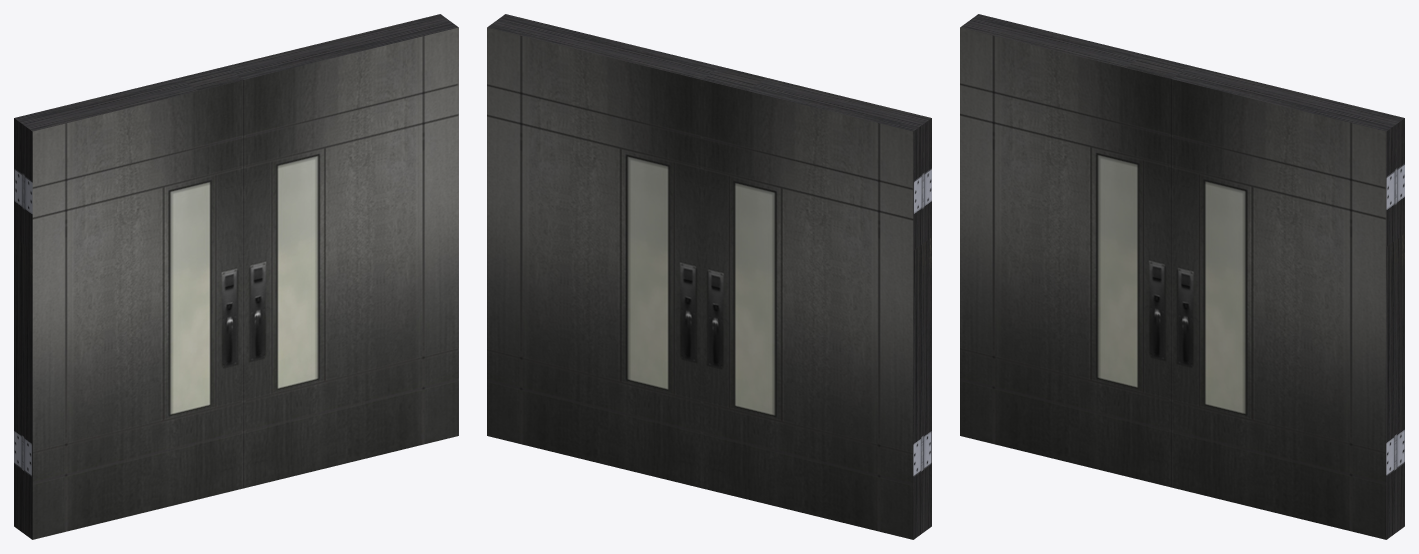
Rendered from Puerta_VC_F.fbx.
3 views of the same model, side by side, from view 1: azimuth 30°, elevation 25°; view 2: azimuth 150°, elevation 25°; view 3: azimuth 330°, elevation 25° (orthographic).
Visible parts, largest first — view 1: Puerta1_VC_F, Puerta2_VC_F; view 2: Puerta1_VC_F, Puerta2_VC_F; view 3: Puerta2_VC_F, Puerta1_VC_F.
Part boxes in pixels (<box>): Puerta1_VC_F: <box>14,66,243,539</box>; Puerta2_VC_F: <box>226,14,458,488</box>; Puerta1_VC_F: <box>702,66,931,539</box>; Puerta2_VC_F: <box>487,14,719,488</box>; Puerta2_VC_F: <box>1171,65,1404,539</box>; Puerta1_VC_F: <box>960,14,1189,487</box>.
Size of the model in its own units: 493 by 451 by 36.97.
2 materials, 2 textured.
